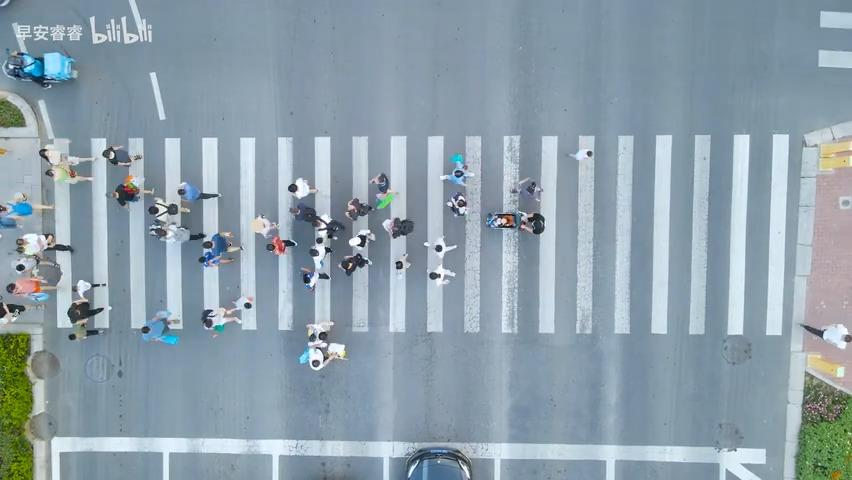Civilian: (5, 48, 78, 89), (298, 321, 346, 370), (38, 146, 97, 184), (0, 191, 54, 228), (14, 232, 73, 262), (423, 235, 457, 285), (198, 231, 243, 267), (110, 174, 154, 210), (798, 322, 851, 349), (200, 306, 242, 338), (141, 310, 179, 345), (149, 221, 206, 243), (439, 153, 474, 187), (368, 172, 398, 210), (0, 301, 46, 324), (5, 277, 59, 295), (289, 202, 327, 227), (102, 144, 142, 167), (66, 301, 104, 325), (147, 197, 190, 218), (176, 181, 221, 201), (337, 252, 372, 276), (313, 214, 345, 240), (299, 266, 330, 291), (71, 279, 106, 301), (287, 177, 319, 200), (252, 212, 279, 238), (0, 296, 25, 324), (516, 210, 545, 234), (381, 217, 414, 238), (345, 197, 373, 221), (67, 322, 104, 340), (426, 264, 456, 285), (266, 235, 297, 255), (348, 228, 375, 249), (446, 191, 468, 216), (486, 212, 515, 228), (509, 176, 530, 194), (525, 181, 543, 199), (394, 252, 411, 270), (567, 148, 592, 160)
